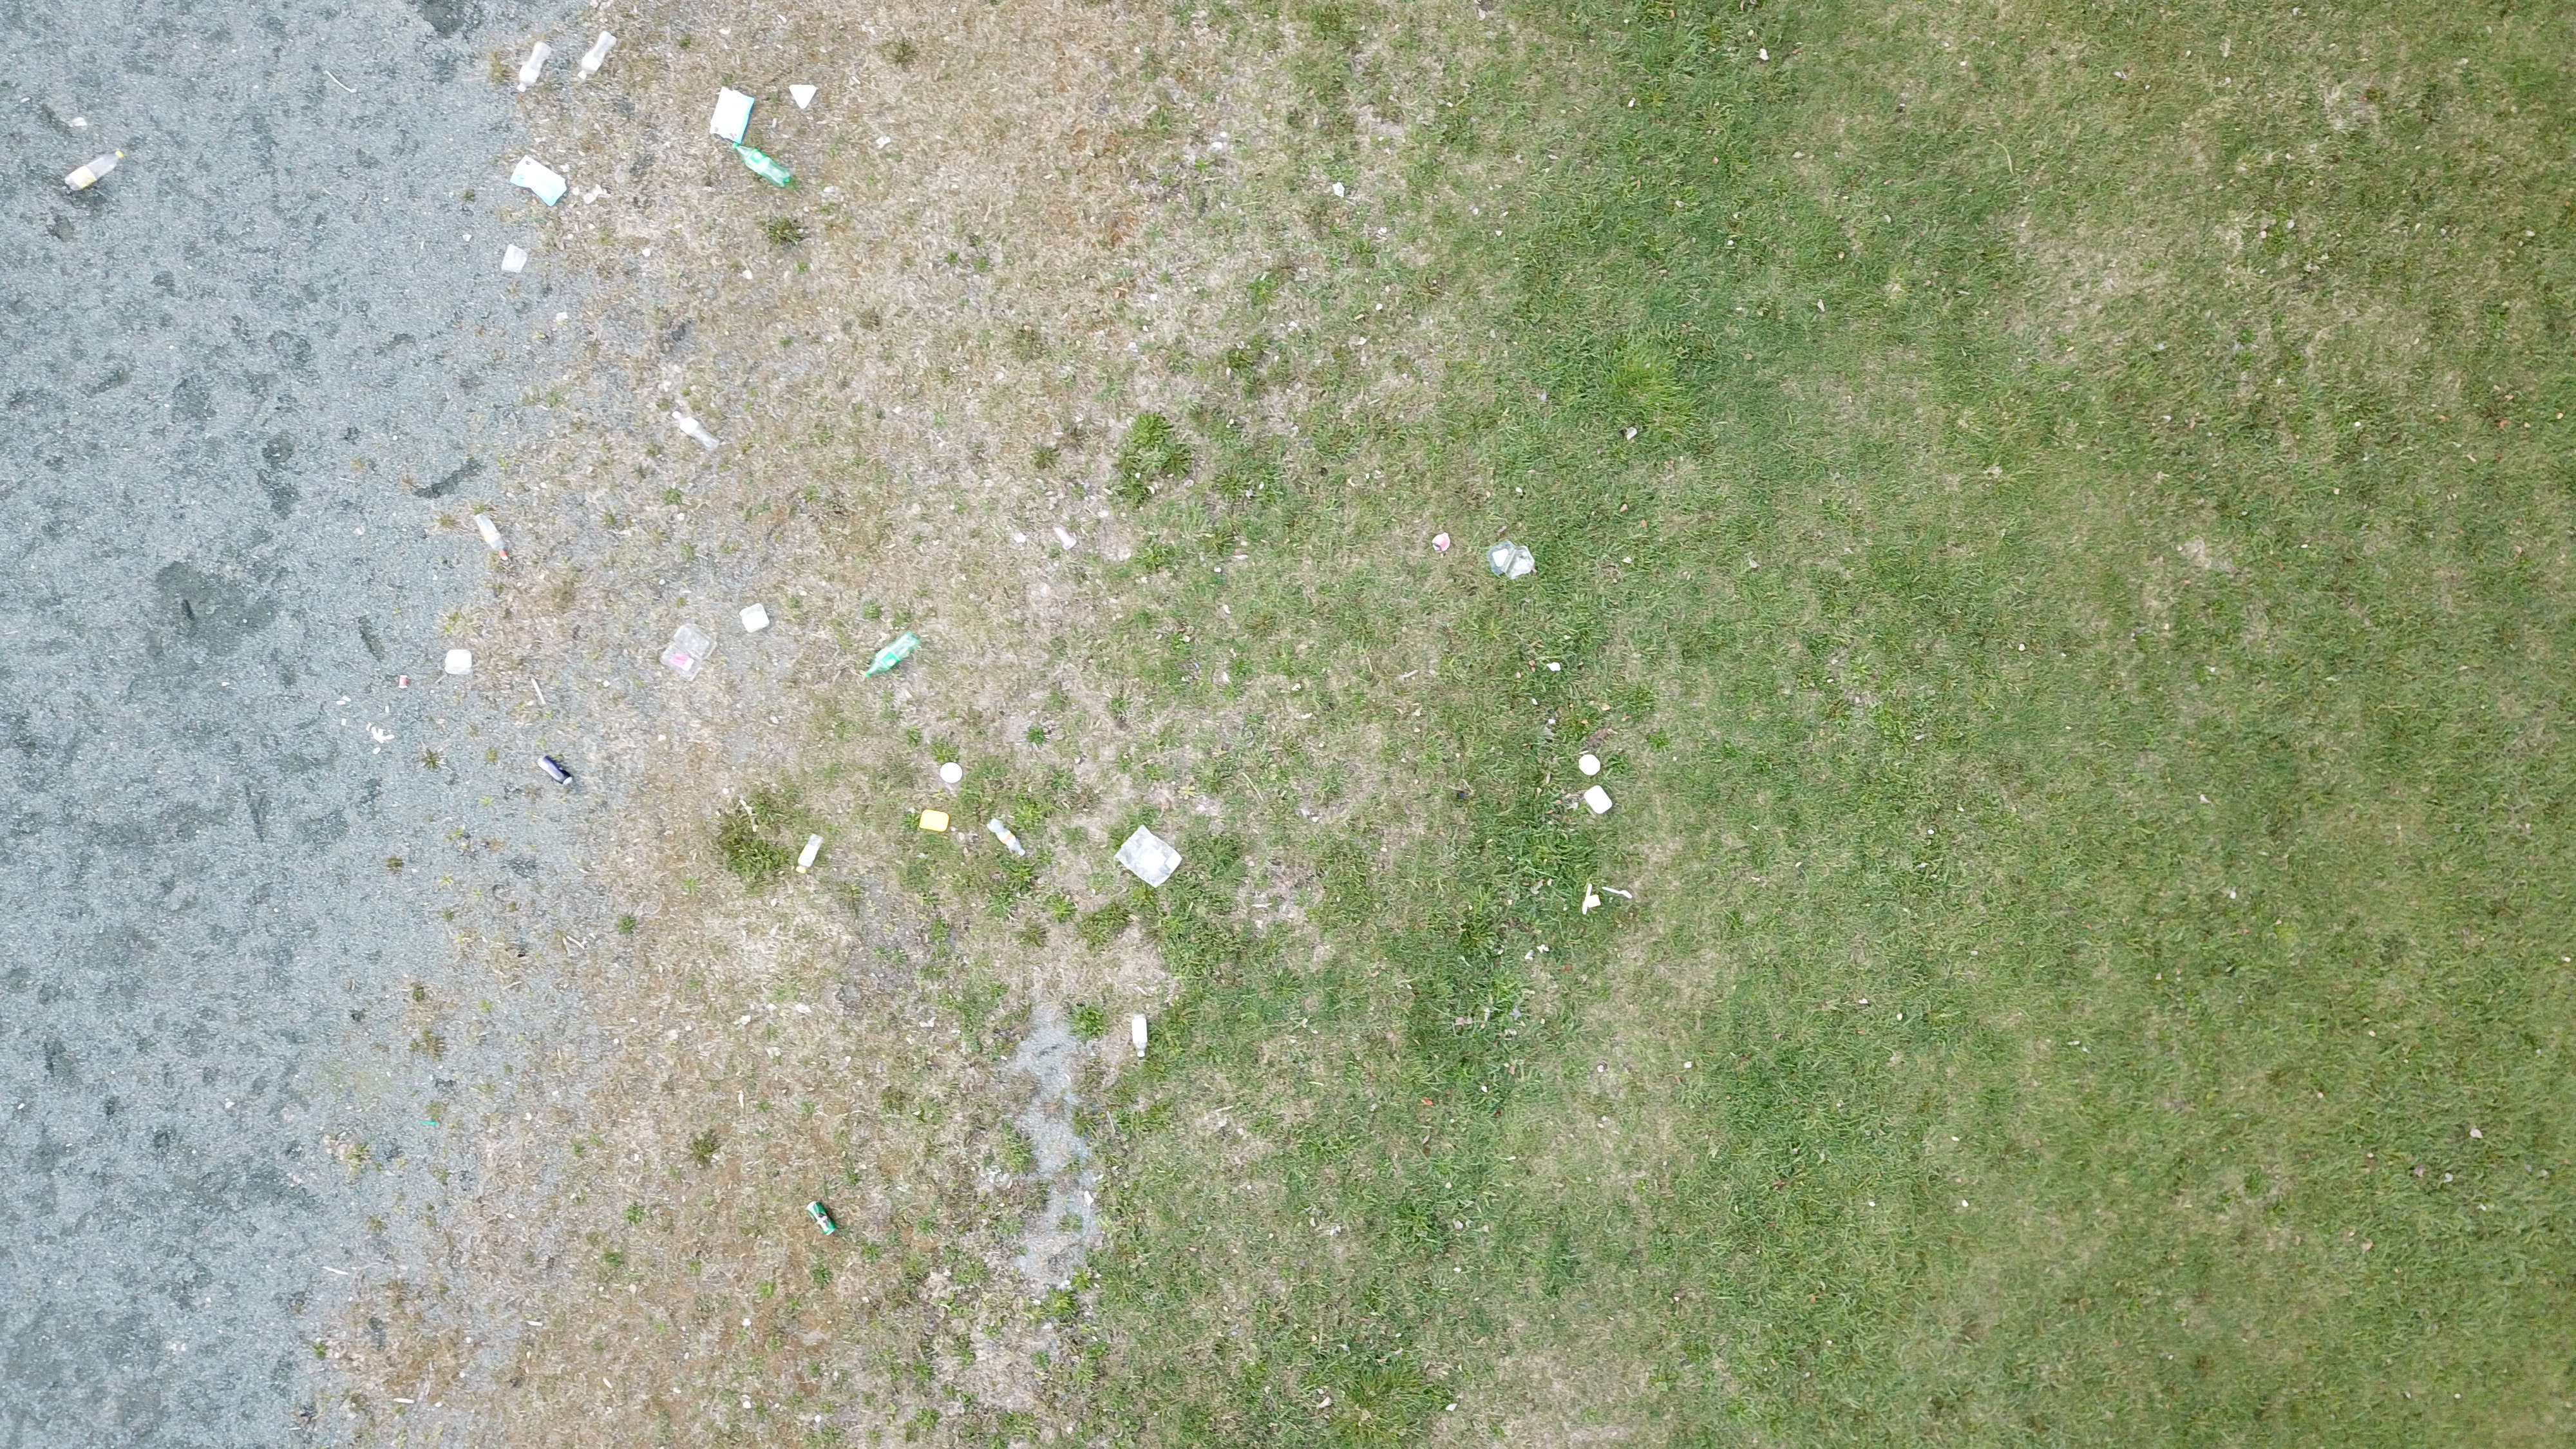Can: (803, 1200, 837, 1238), (536, 754, 577, 786)
Plastic: (1115, 823, 1184, 888), (658, 621, 720, 685), (508, 156, 568, 209), (709, 83, 752, 145), (1484, 540, 1534, 580), (441, 644, 472, 676), (787, 81, 819, 111), (740, 603, 770, 635), (1582, 784, 1614, 814), (916, 809, 952, 833), (499, 246, 529, 274), (1430, 531, 1454, 554), (1580, 754, 1603, 777), (939, 763, 964, 784), (1601, 886, 1635, 901), (531, 674, 543, 702), (1582, 883, 1592, 915), (1587, 895, 1601, 909), (400, 674, 412, 690)
PlasticBottle: (862, 630, 922, 679), (731, 142, 793, 188), (64, 149, 124, 195), (573, 30, 619, 80), (671, 410, 720, 455), (472, 510, 511, 563), (517, 41, 554, 92), (985, 817, 1028, 856), (796, 833, 821, 876), (1129, 1010, 1150, 1058)
